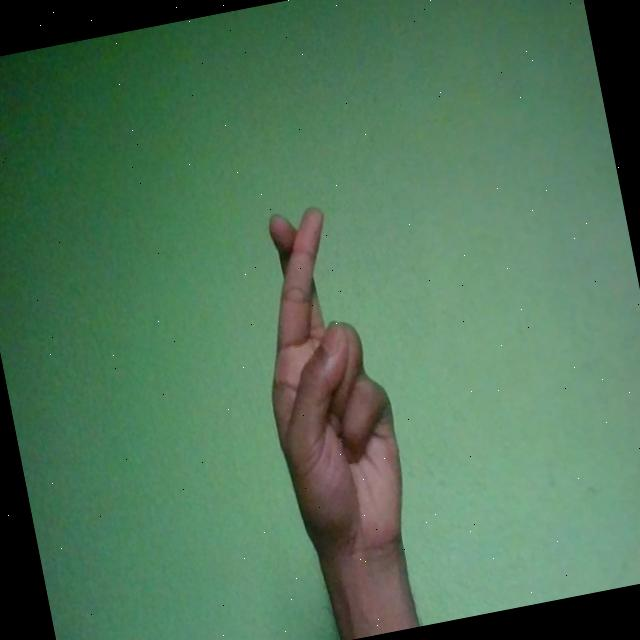Ok: (236, 196, 419, 574)
